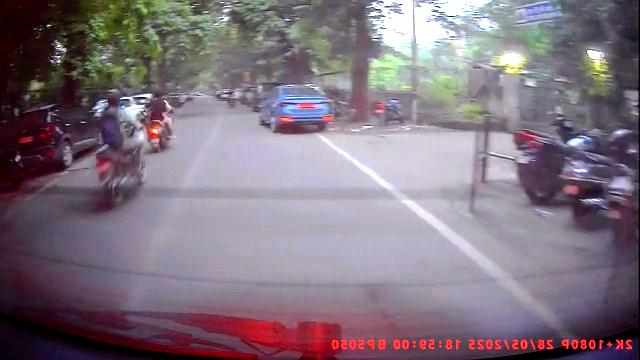motorcycle_with_helmet: (93, 87, 149, 211)
